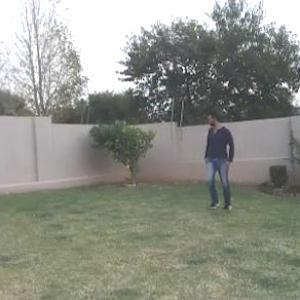follow: (202, 109, 236, 215)
